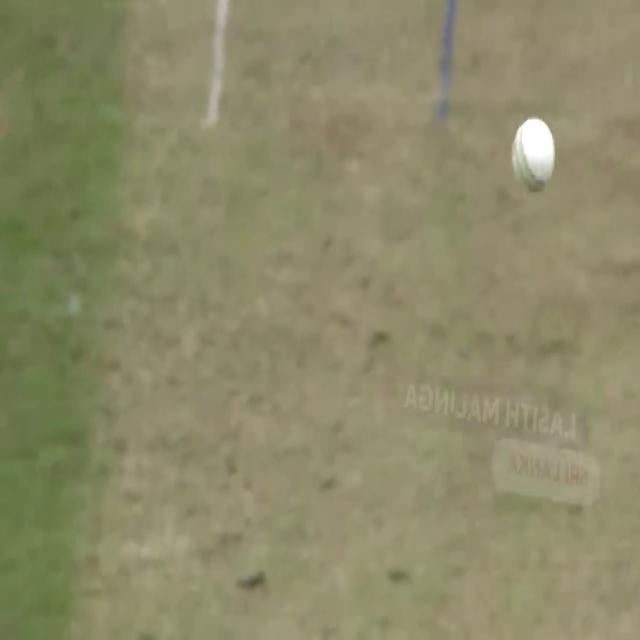ball: (509, 111, 561, 201)
